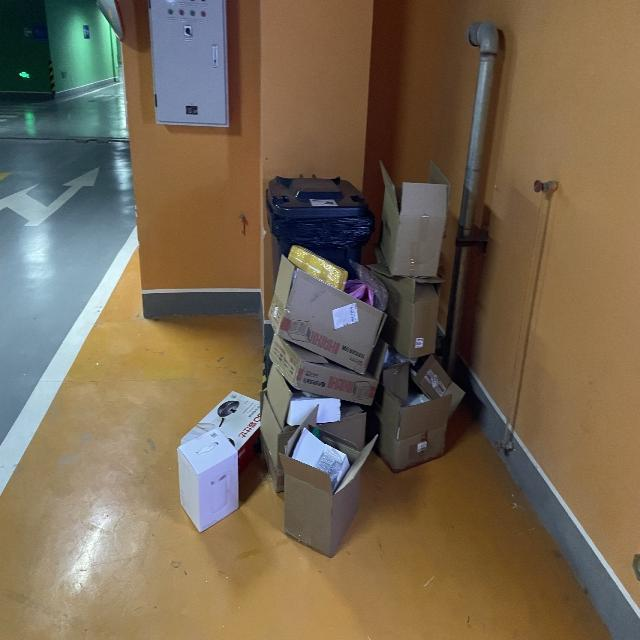garbage: (177, 161, 465, 558)
